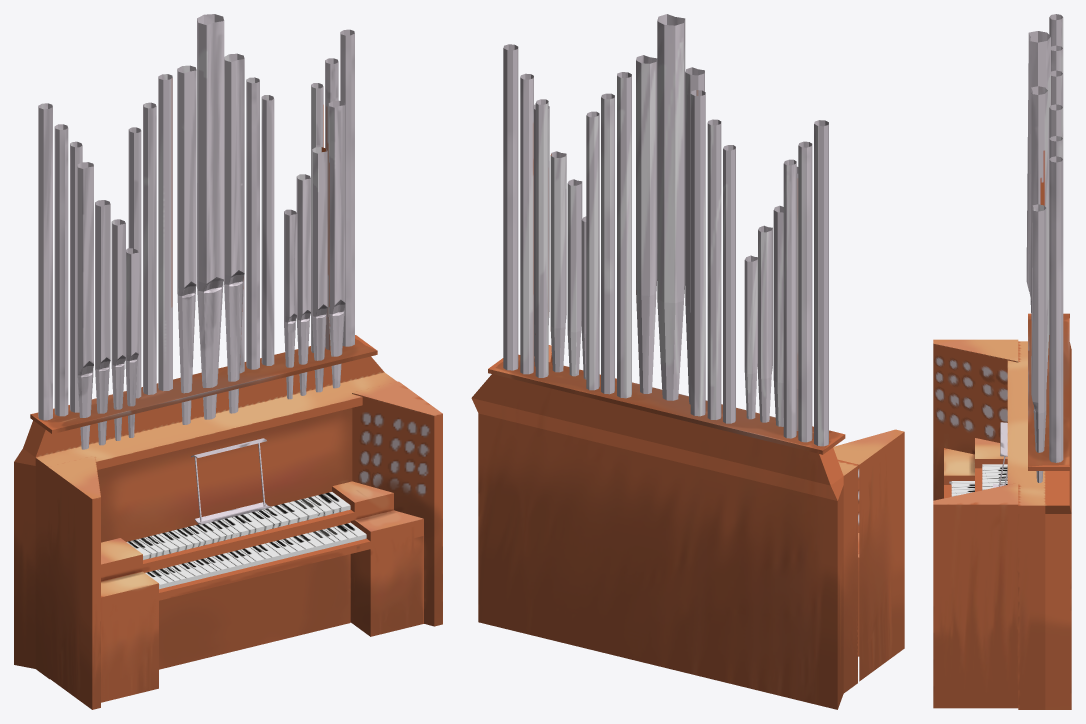
File: organ.fbx
3 renders of one model, left to right at view 1: azimuth 30°, elevation 25°; view 2: azimuth 150°, elevation 25°; view 3: azimuth 270°, elevation 25°, orthographic. The views are drawn at different scales.
Parts seen in each view (by area): view 1: orgao; view 2: orgao; view 3: orgao.
Part boxes in pixels (<box>): orgao: <box>14,14,442,709</box>; orgao: <box>471,14,904,709</box>; orgao: <box>933,14,1071,709</box>.
Bounding box in the file's own units: 108 × 178 × 37.49.
